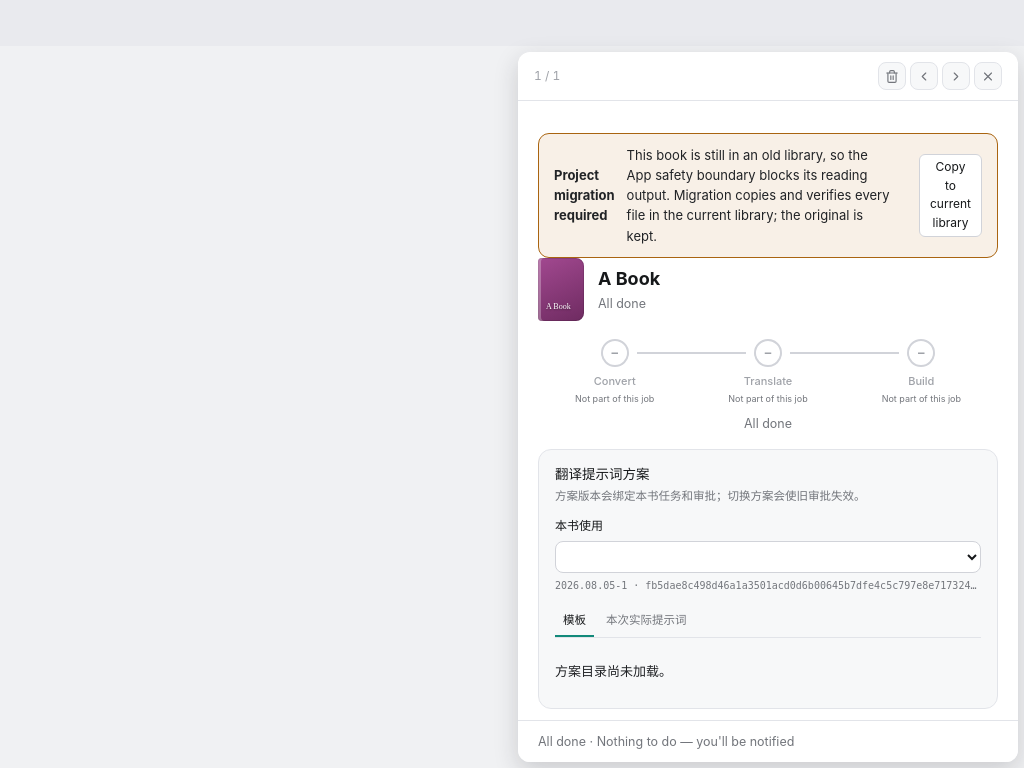
Scenario: BookDrawer gate card › offers an explicit copy-and-verify migration for an old-library project
Click the button "Copy to current library".
click(950, 195)  # box [919, 154, 982, 237]
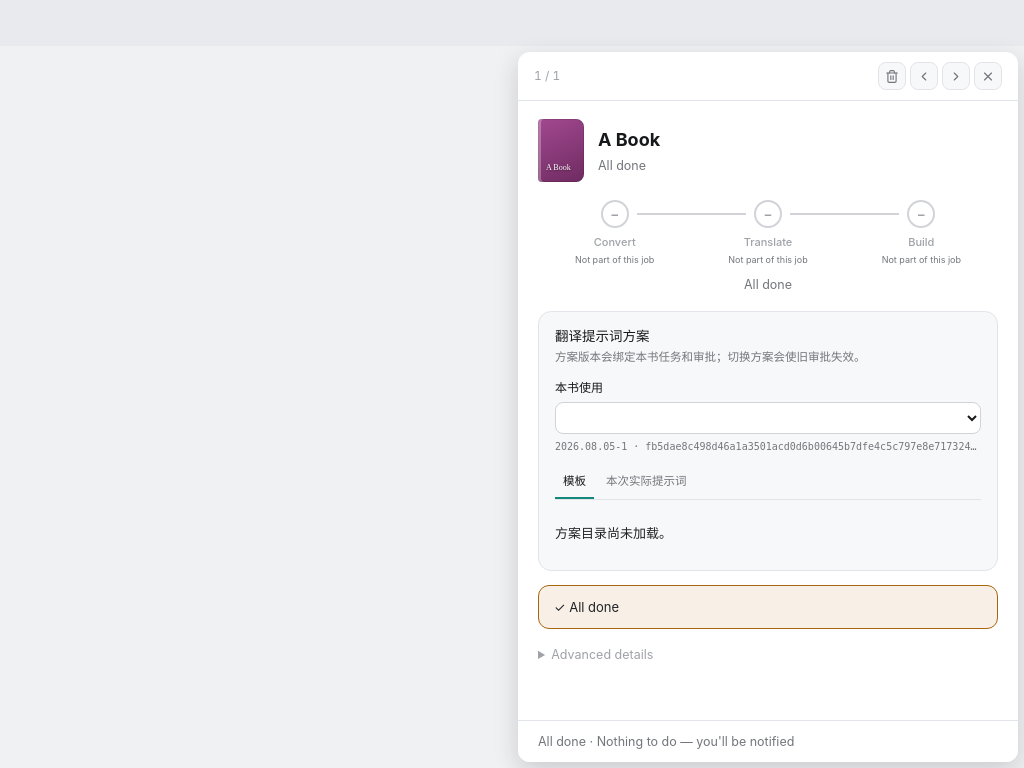
Expected: the text "Project migration required" is gone
